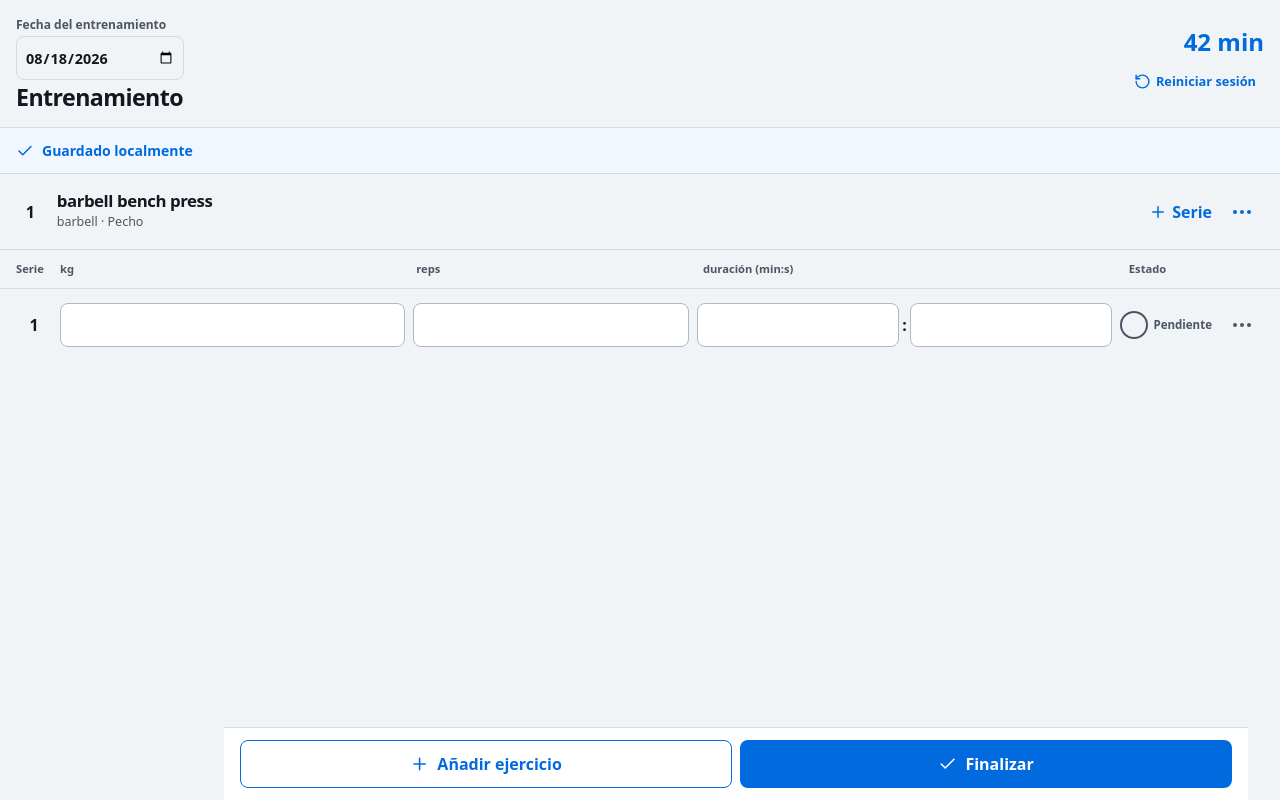
ActiveWorkoutPage › records minutes and seconds for a timed set without repetitions
Type "0" into the field named "Peso de la serie 1 en kilogramos".
click(233, 325); type("0")  # box [60,303,405,347]
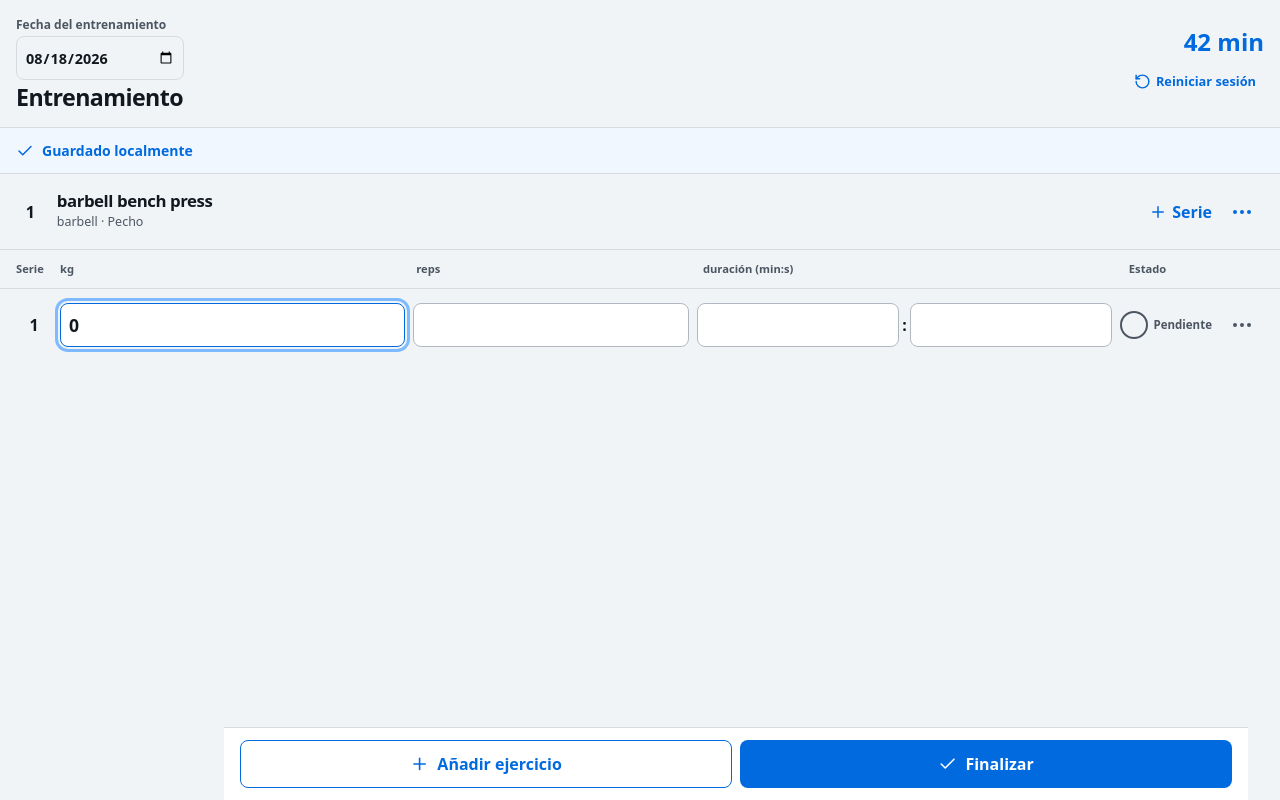
Type "1" into the field named "Minutos de la serie 1".
click(798, 325); type("1")  # box [698,303,899,347]
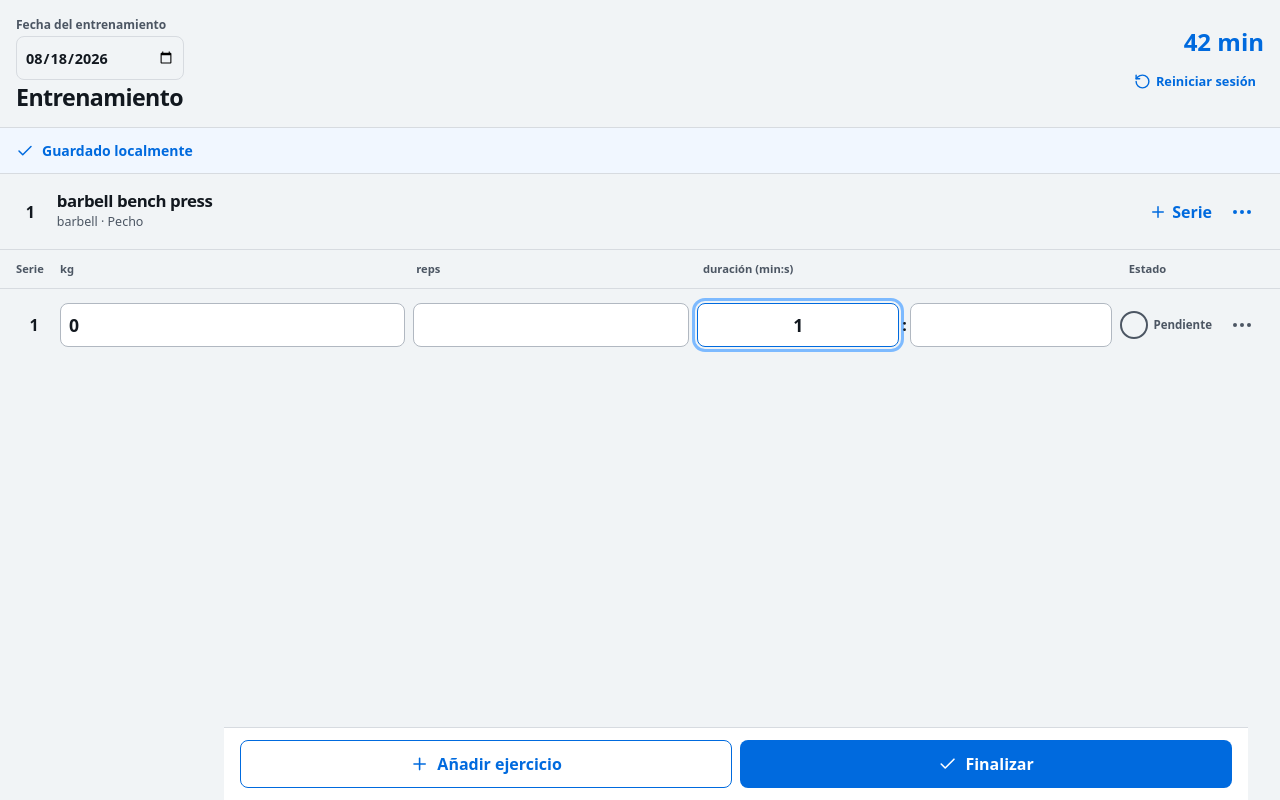
Type "30" into the field named "Segundos de la serie 1".
click(1011, 325); type("30")  # box [910,303,1112,347]
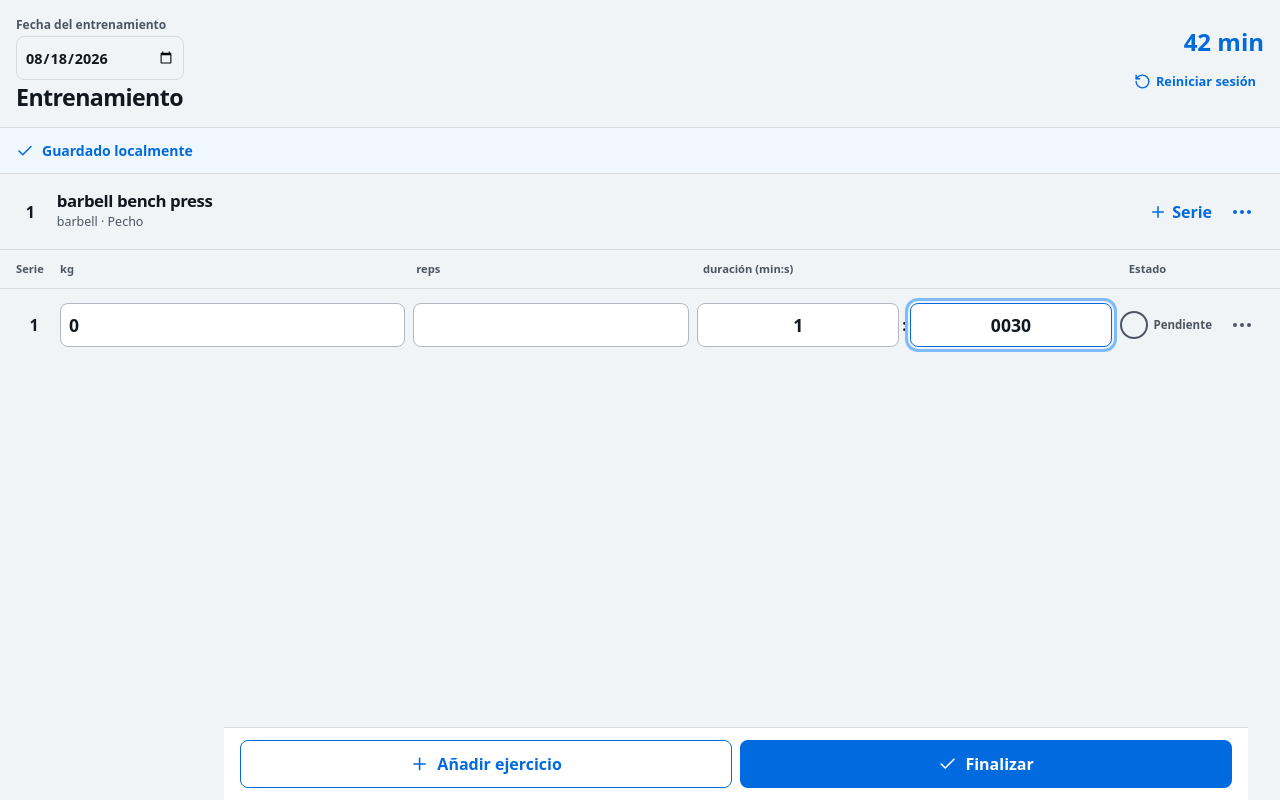
Click the button with aria-label "Marcar serie 1 como completada".
click(1166, 325)  # box [1120,303,1212,347]
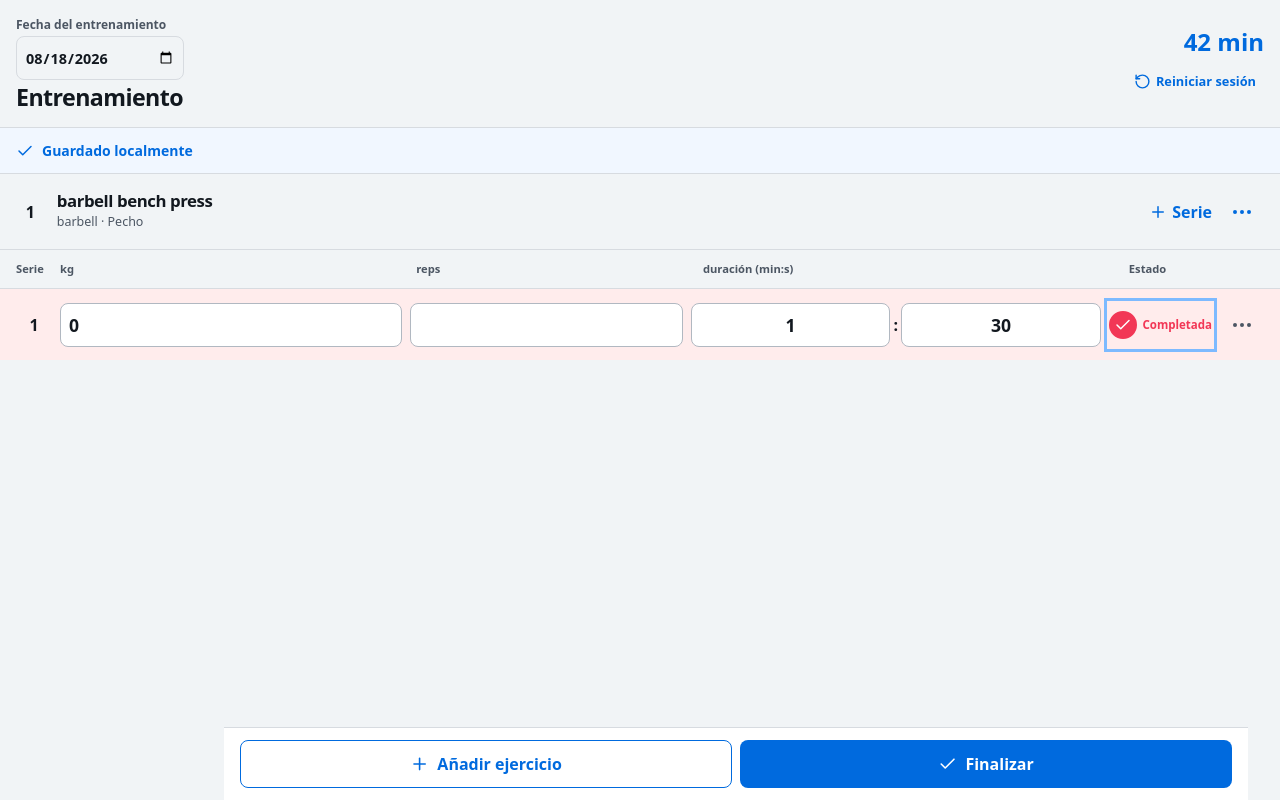
Expected: the text "Completada" is shown, [1142,316,1212,334]
